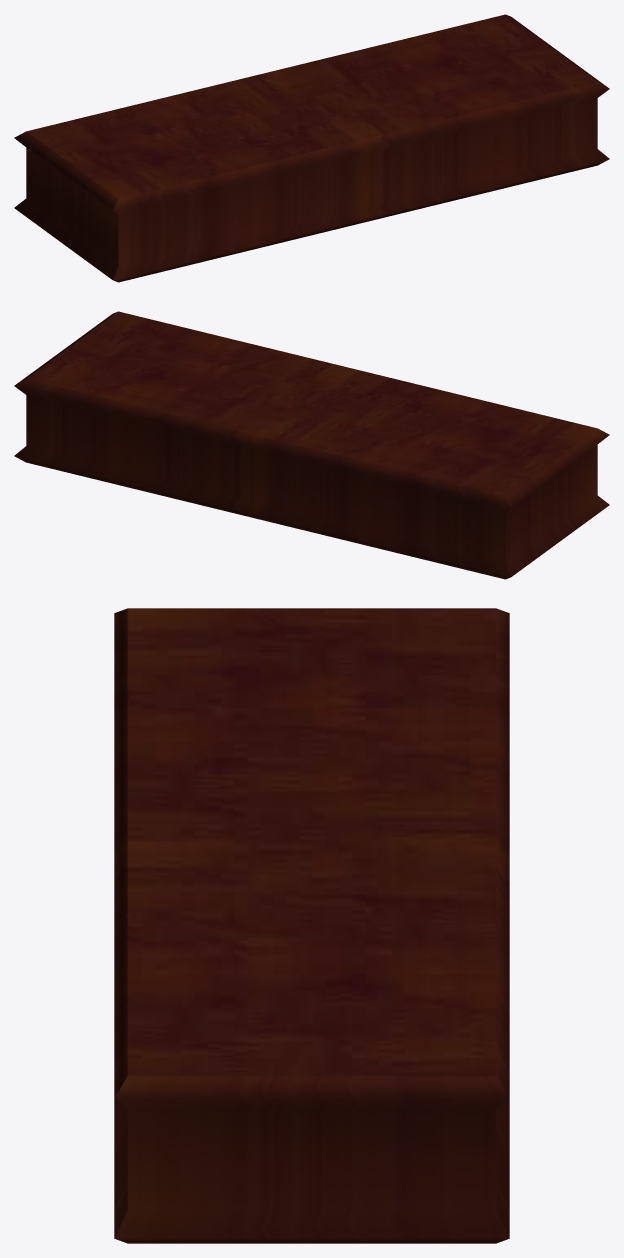
The model's file is God_Table_Props2.fbx.
The picture shows the model from 3 angles, top to bottom: view 1: azimuth 30°, elevation 25°; view 2: azimuth 150°, elevation 25°; view 3: azimuth 270°, elevation 25°; orthographic projection. The views are drawn at different scales.
Visible parts, largest first — view 1: God_Table_Props2; view 2: God_Table_Props2; view 3: God_Table_Props2.
Boxes of the visible parts, x1=… form: God_Table_Props2: x1=14, y1=14, x2=609, y2=282; God_Table_Props2: x1=14, y1=311, x2=609, y2=579; God_Table_Props2: x1=114, y1=608, x2=509, y2=1243.
Size of the model in its own units: 0.3112 by 0.05 by 0.1072.
1 material, 1 textured.
